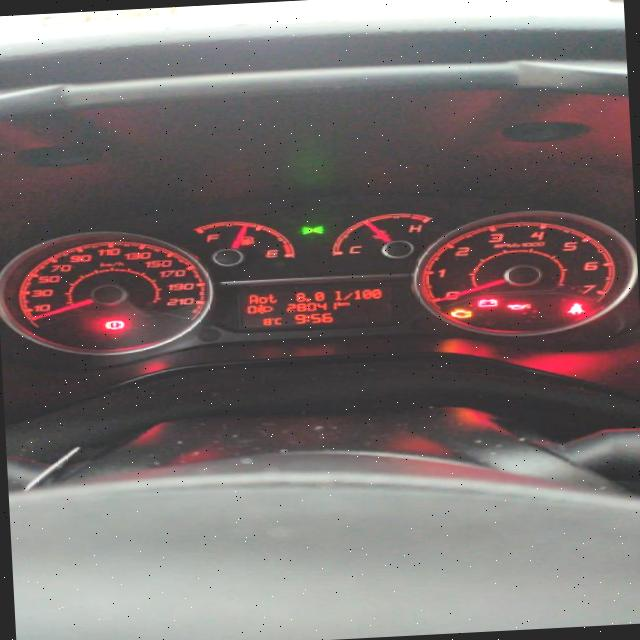odometer: (238, 284, 394, 329)
